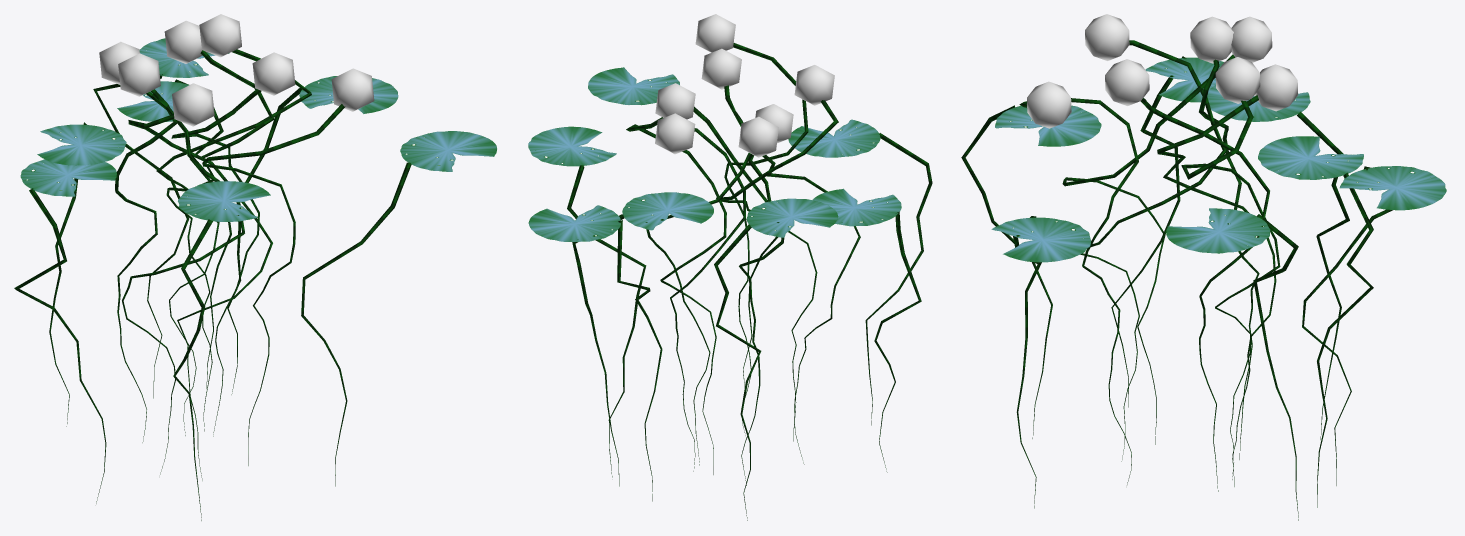
Rendered from ENV_Water_Lily_001_Model.fbx.
The picture shows the model from 3 angles, left to right: view 1: azimuth 30°, elevation 25°; view 2: azimuth 150°, elevation 25°; view 3: azimuth 270°, elevation 25°; orthographic projection. The views are drawn at different scales.
Parts seen in each view (by area): view 1: nenuphare, Icosphere.003; view 2: nenuphare, Icosphere.003; view 3: nenuphare, Icosphere.003.
Part boxes in pixels (left/top/right/bottom): nenuphare: left=14, top=38, right=496, bottom=520; Icosphere.003: left=99, top=14, right=374, bottom=126; nenuphare: left=528, top=43, right=932, bottom=520; Icosphere.003: left=655, top=14, right=834, bottom=157; nenuphare: left=961, top=40, right=1446, bottom=520; Icosphere.003: left=1027, top=14, right=1298, bottom=128.
Bounding box in the file's own units: 5.61 × 5.33 × 5.31.
Materials: 3 (2 with a texture image).
